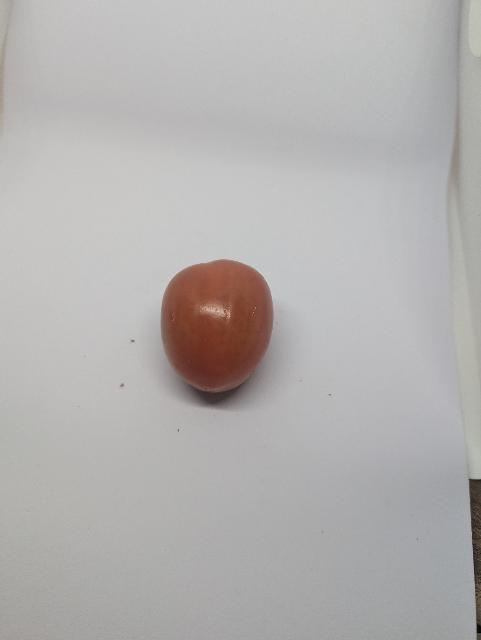red: (159, 257, 278, 395)
